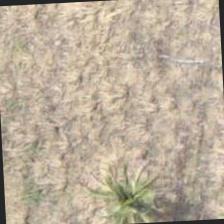Kelapa_Sawit: (76, 154, 170, 223)
